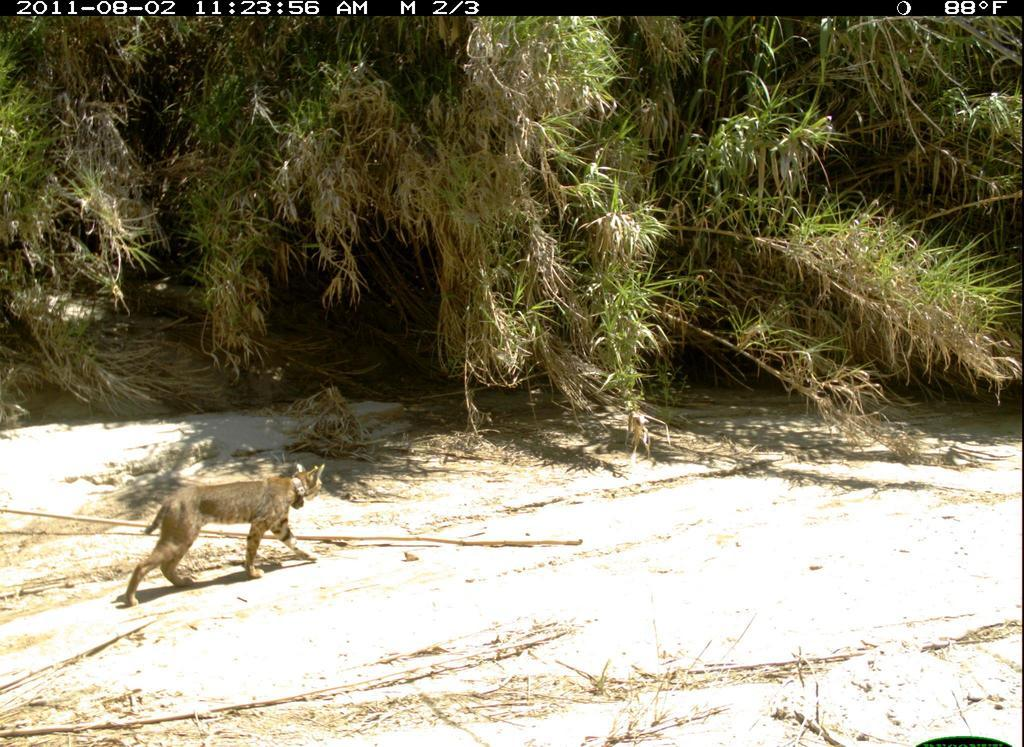bobcat: (108, 455, 338, 629)
